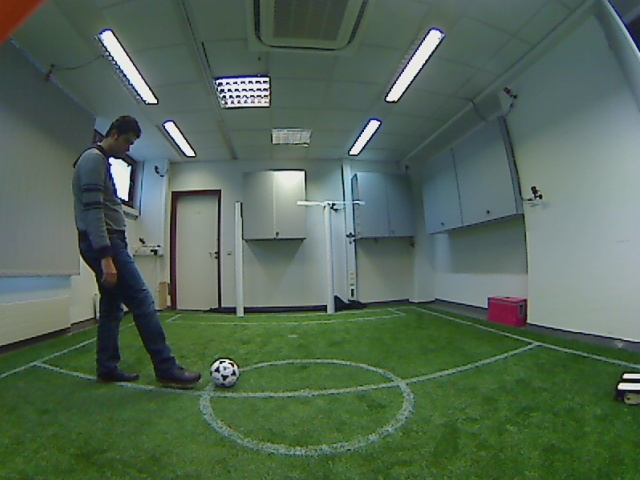ball: (201, 353, 246, 392)
